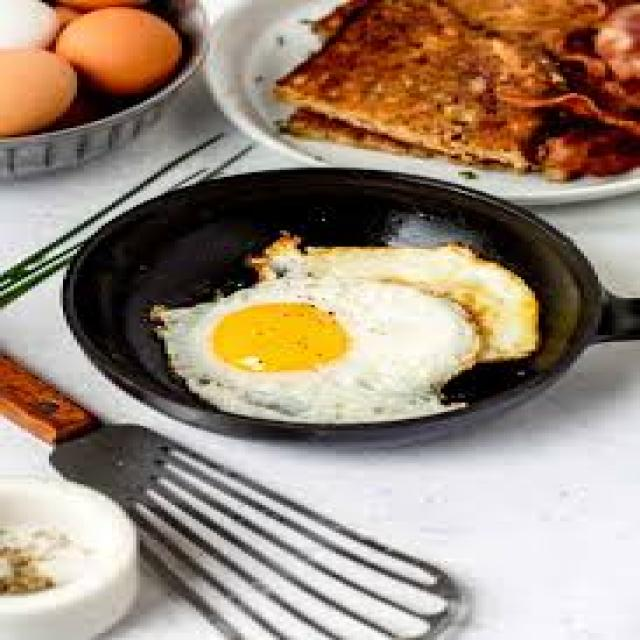Bread: (278, 0, 562, 169)
